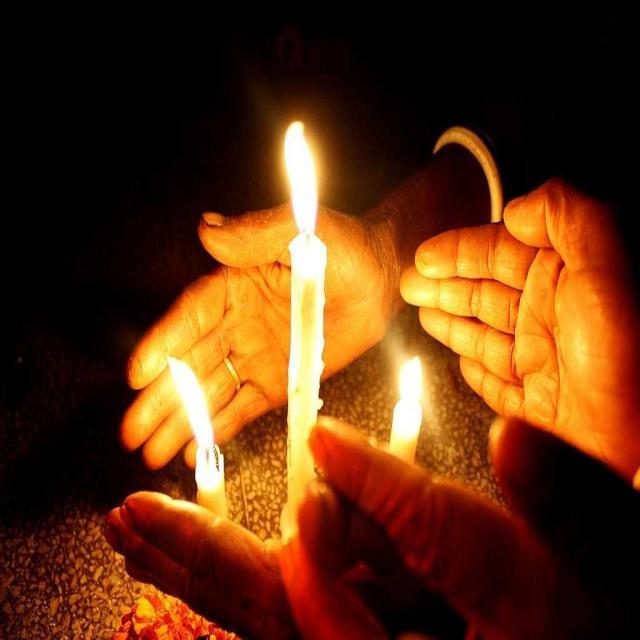Fire: (160, 344, 226, 456), (284, 106, 328, 232), (386, 349, 435, 442)
